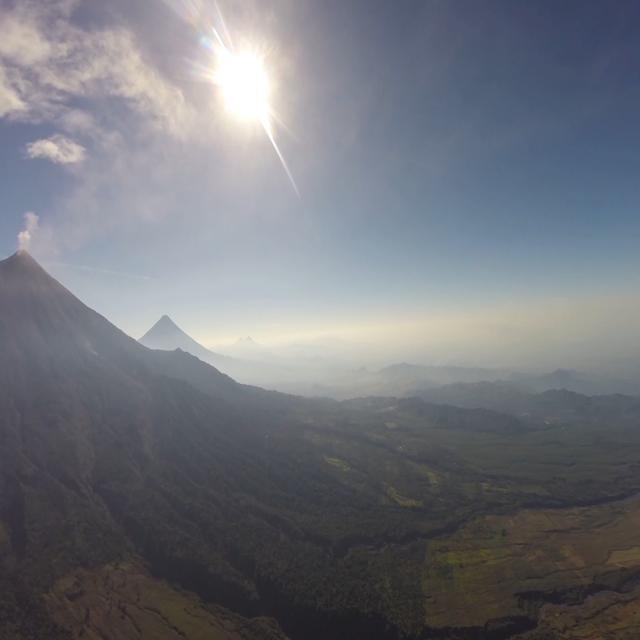Plume: (23, 133, 94, 171), (16, 214, 37, 256)
Summit: (6, 246, 42, 272)
